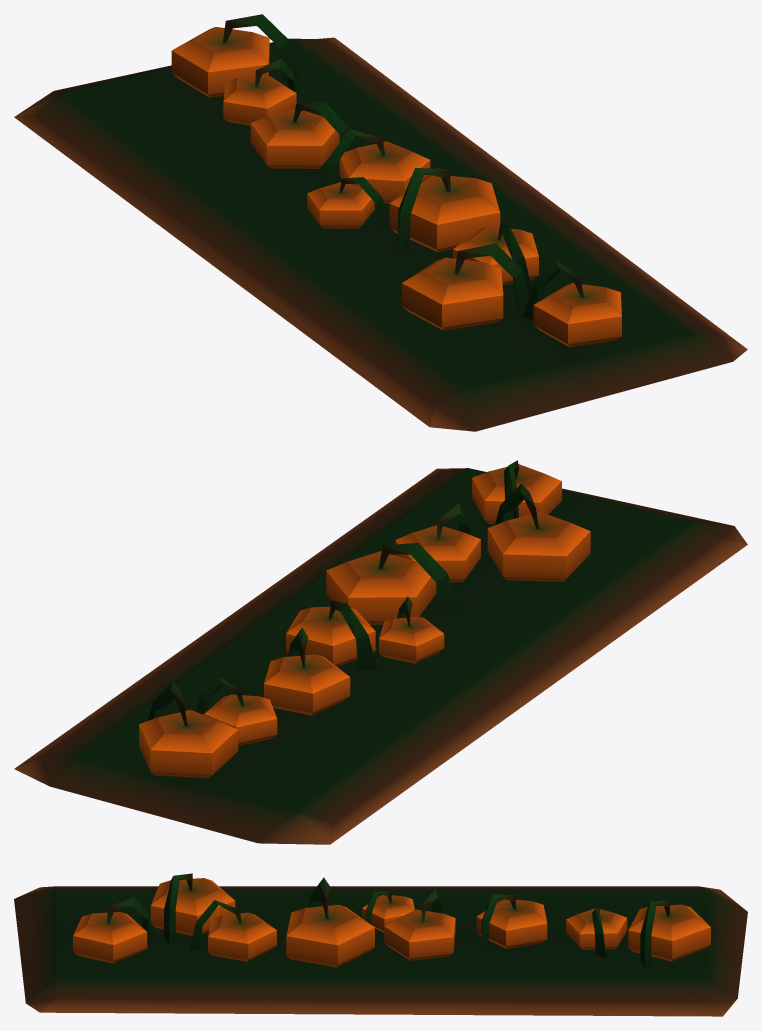
File: c_crop_pumpkins_aa.fbx
3 views of the same model, one above another, from view 1: azimuth 30°, elevation 25°; view 2: azimuth 150°, elevation 25°; view 3: azimuth 270°, elevation 25° (orthographic). The views are drawn at different scales.
Visible parts, largest first — view 1: c_crop_pumpkins_aa; view 2: c_crop_pumpkins_aa; view 3: c_crop_pumpkins_aa.
Boxes of the visible parts, x1,y1,x2,y2 form: c_crop_pumpkins_aa: [14, 14, 747, 431]; c_crop_pumpkins_aa: [14, 460, 747, 844]; c_crop_pumpkins_aa: [14, 873, 747, 1016].
Size of the model in its own units: 1.87 by 0.4975 by 4.49.
